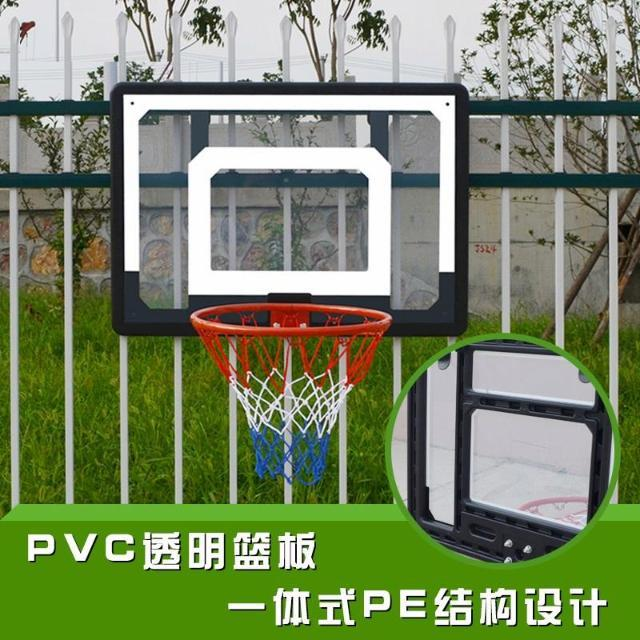rim: (193, 303, 391, 481)
